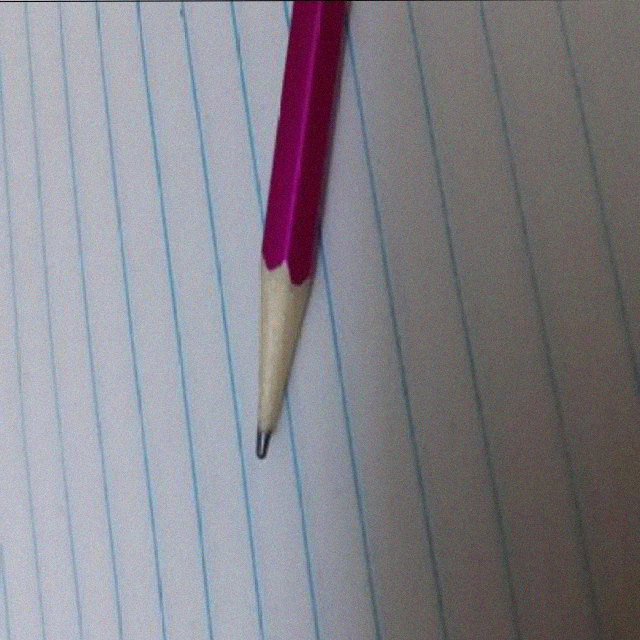pencil: (231, 255, 312, 467)
